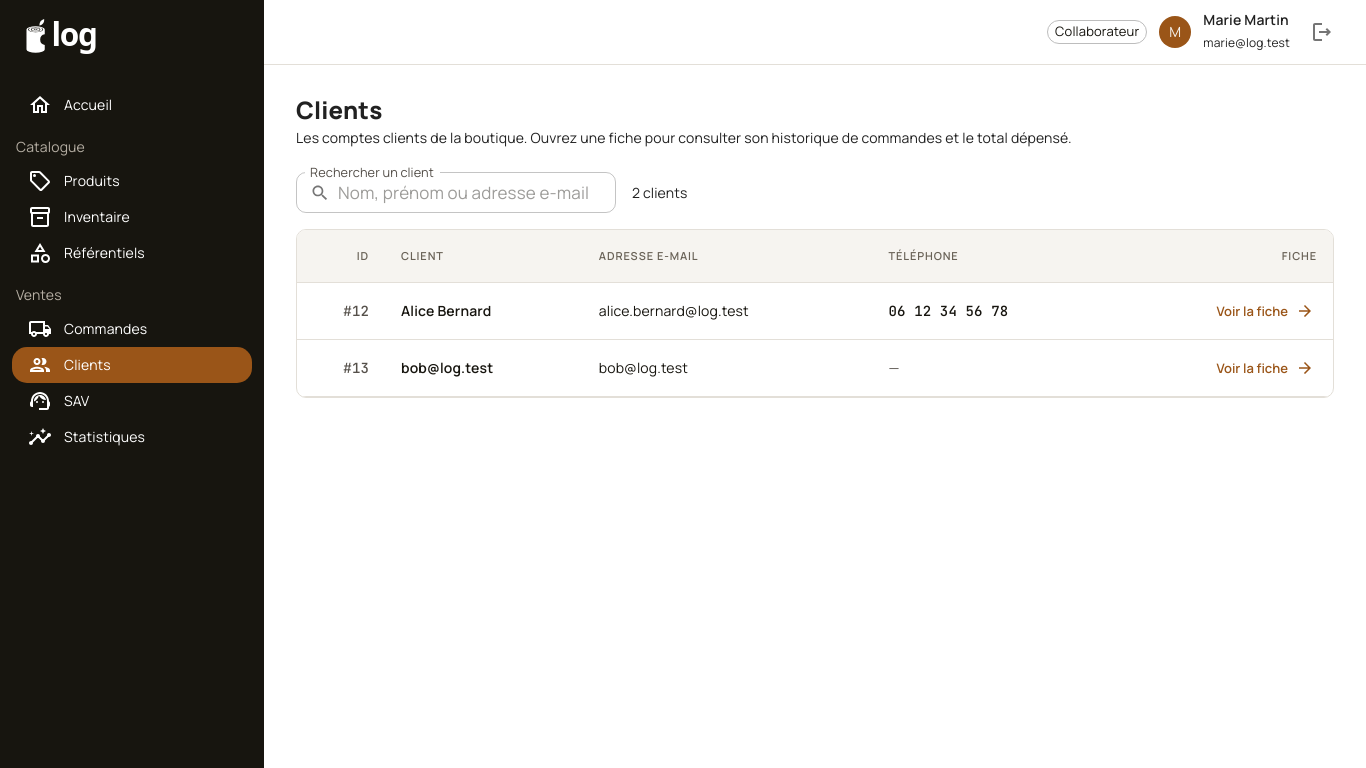
the customers screens (U09) › opens a customer sheet, shows total spent for paid orders only, and expands order items
Click the button with aria-label "Ouvrir la fiche de Alice Bernard" at (1264, 312), box [1212, 292, 1317, 332]
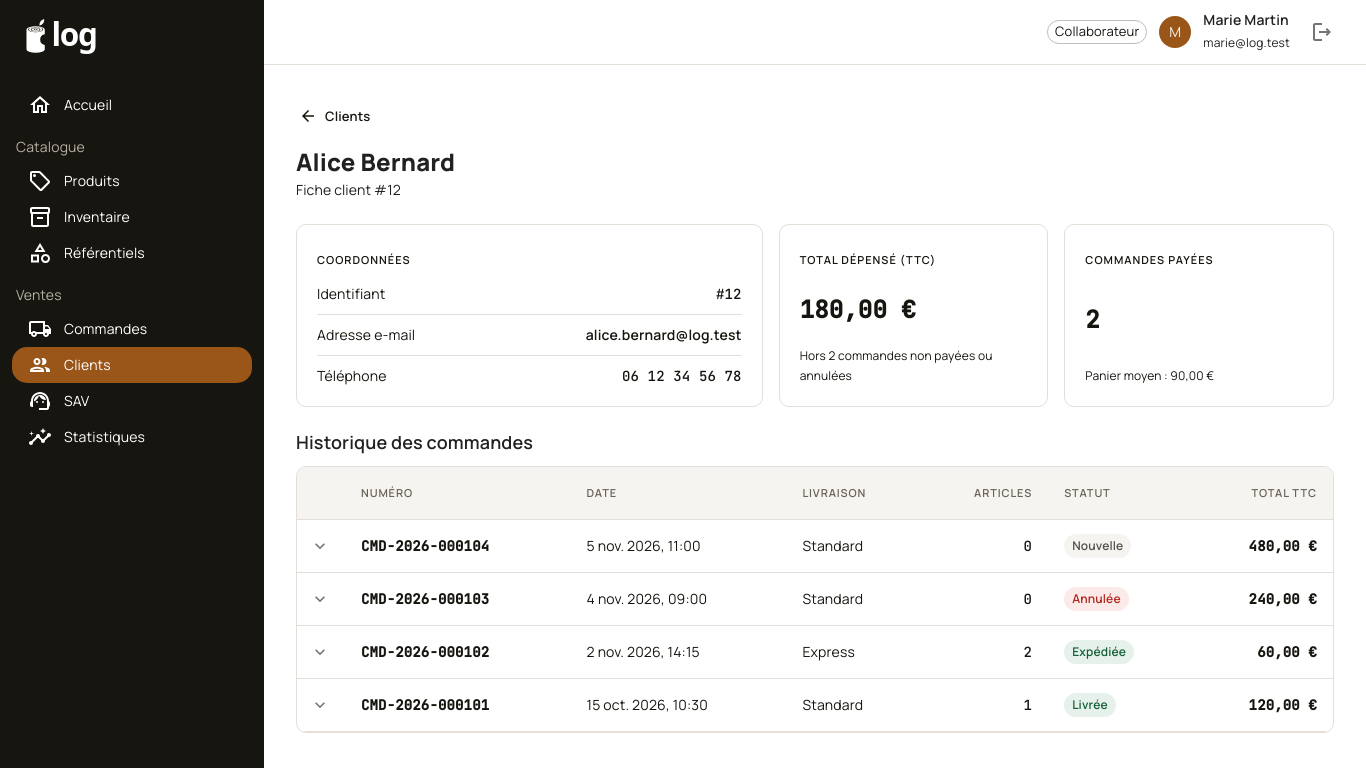
Now the heading "Alice Bernard" is shown, box [296, 148, 455, 176]
Now the text "180,00 €" is shown, box [800, 294, 916, 325]
Now the text "Hors 2 commandes non payées ou annulées" is shown, box [800, 348, 992, 384]
Click the button named "Afficher les articles de la commande CMD-2026-000102" at (320, 652), box [305, 636, 335, 666]
(page scrolled)
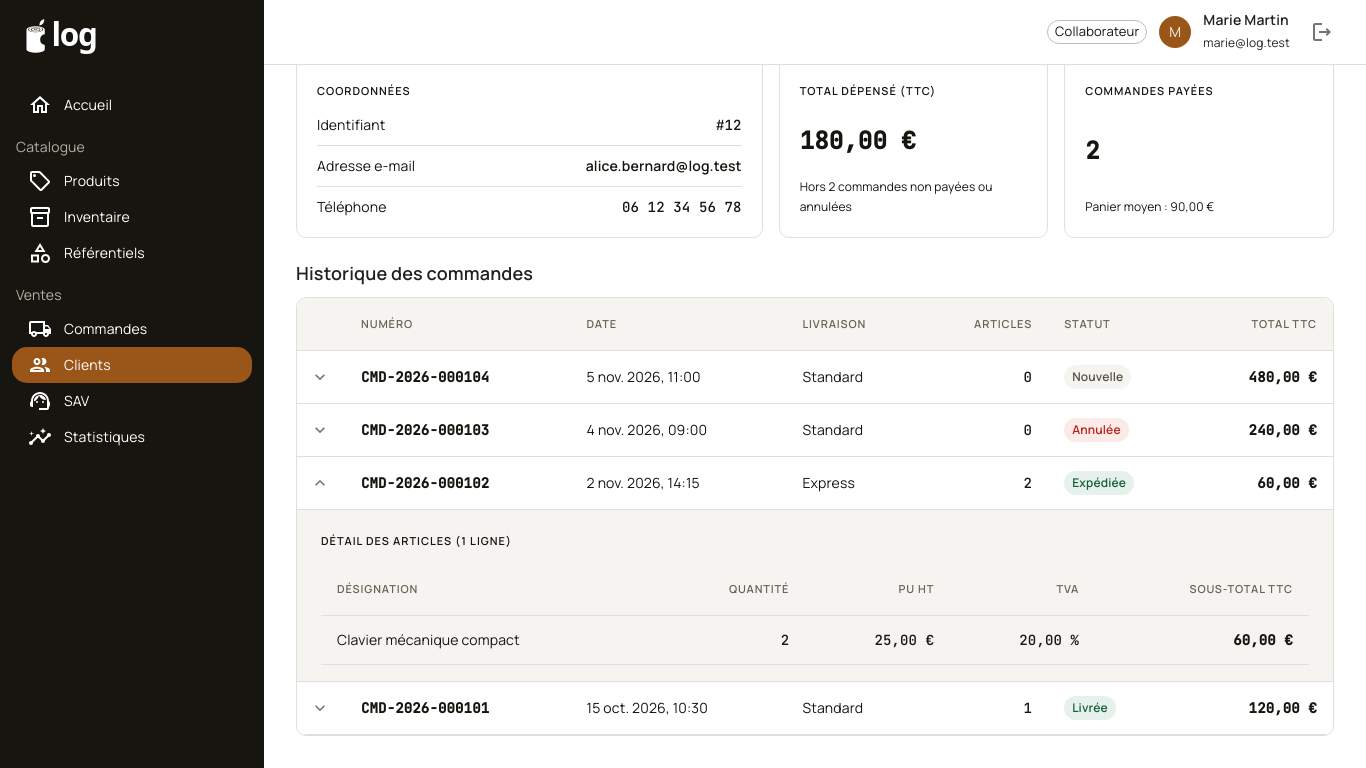
Now the text "Clavier mécanique compact" is shown, box [321, 615, 660, 664]
